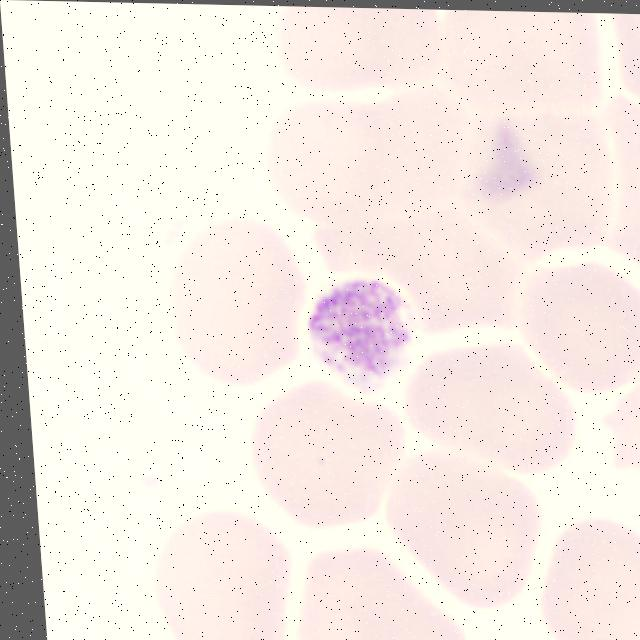platelets: (302, 254, 442, 404)
rbc: (240, 374, 427, 538), (127, 507, 305, 640), (400, 341, 576, 465), (284, 546, 471, 640), (512, 258, 640, 395)
